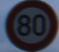Speed Limit -80-: (0, 0, 58, 51)
